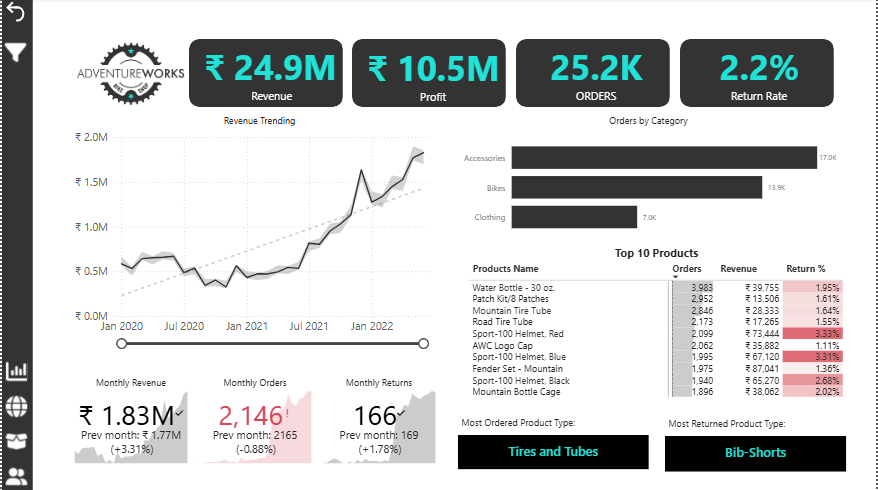

The page's visual inventory and layout, read from the dashboard file:
{"tool":"powerbi","page":{"name":"Exce Dashboard","canvas":[1280,720],"ordinal":0},"visuals":[{"type":"card","fields":{"Values":["Measure Table.Return Rate"]},"box":[957.9,26.4,299,166.3],"z":0,"group":"g4"},{"type":"image","title":"AW Logo","box":[87.8,27.8,202,165.4],"z":0},{"type":"shape","box":[991.2,59.5,225.4,99.5],"z":0,"group":"g3"},{"type":"card","fields":{"Values":["Min(Product Subcategories Lookup.SubcategoryName)"]},"box":[970.9,639.8,265.2,51.9],"z":0,"group":"g1"},{"type":"card","fields":{"Values":["Min(Product Subcategories Lookup.SubcategoryName)"]},"box":[668.2,640.6,278.5,49.8],"z":0,"group":"g2"},{"type":"card","fields":{"Values":["Measure Table.Total Orders"]},"box":[719.4,26.4,299,166.3],"z":1000,"group":"g4"},{"type":"shape","box":[751.2,59.5,225.4,99.5],"z":1000,"group":"g3"},{"type":"textbox","box":[667.9,607.7,179.7,30.2],"z":1000,"group":"g2"},{"type":"group","id":"g1","title":"text 2","box":[970.9,608.1,265.4,84],"z":1000},{"type":"textbox","box":[971.5,608.1,183.1,26.9],"z":1000,"group":"g1"},{"type":"shape","title":"Left Nav Background","box":[0,0,45.4,720],"z":2000},{"type":"card","fields":{"Values":["Measure Table.Total profit"]},"box":[480.8,28.1,299,166.3],"z":2000,"group":"g4"},{"type":"shape","box":[512.2,59.5,225.4,99.5],"z":2000,"group":"g3"},{"type":"card","fields":{"Values":["Measure Table.Total Revenue"]},"box":[242.3,26.4,299,166.3],"z":3000,"group":"g4"},{"type":"shape","box":[273.2,59.5,225.4,99.5],"z":3000,"group":"g3"},{"type":"group","id":"g2","title":"text 1","box":[667.9,607.7,278.9,82.7],"z":3000},{"type":"lineChart","title":"Revenue Trending","fields":{"Y":["Measure Table.Total Revenue"],"Category":["Calendar Lookup.Start of Month"]},"box":[100.8,169.2,552,346.9],"z":4000},{"type":"kpi","title":"Monthly Revenue","fields":{"Indicator":["Measure Table.Total Revenue"],"TrendLine":["Calendar Lookup.Start of Month"],"Goal":["Measure Table.Previous Month Revenue"]},"box":[101,553.2,175.6,133.2],"z":5000},{"type":"kpi","title":"Monthly Orders","fields":{"TrendLine":["Calendar Lookup.Start of Month"],"Goal":["Measure Table.Previous Month Orders"],"Indicator":["Measure Table.Total Orders"]},"box":[282.4,553.2,175.6,133.2],"z":6000},{"type":"kpi","title":"Monthly Returns","fields":{"TrendLine":["Calendar Lookup.Start of Month"],"Indicator":["Measure Table.Total Returns"],"Goal":["Measure Table.Previous Month Returns"]},"box":[463.9,553.2,175.6,133.2],"z":7000},{"type":"clusteredBarChart","title":"Orders by Category","fields":{"Category":["Product Categories Lookup.CategoryName"],"Y":["Measure Table.Total Orders"]},"box":[666.5,169.2,560.5,191.4],"z":8000},{"type":"pivotTable","title":"Top 10 Products","fields":{"Rows":["Product Lookup.ProductName"],"Values":["Measure Table.Total Orders","Measure Table.Total Revenue","Measure Table.Return Rate"]},"box":[678.6,361.2,557.7,230.1],"z":9000},{"type":"group","id":"g3","title":"KPI Background","box":[273.2,59.5,942.9,99.1],"z":10000},{"type":"group","id":"g4","title":"KPI's Value","box":[242.3,26.4,1015.6,167.4],"z":11000},{"type":"actionButton","box":[0,0,45.4,39.5],"z":12000},{"type":"actionButton","box":[1.6,578,43,39.5],"z":13000},{"type":"actionButton","box":[1.5,629.3,43.9,39.5],"z":14000},{"type":"actionButton","box":[1.6,526.8,43,39.5],"z":15000},{"type":"actionButton","box":[1.5,680.5,43.9,39.5],"z":16000},{"type":"actionButton","box":[0,60,45.4,39.5],"z":17000}]}

Visuals, with their boxes on the page's 1280x720 design canvas (x1, y1, x2, y2). These are canvas units, not pixel positions in the 878x490 screenshot, which may show the page scaled, cropped or inside an application window:
card - Measure Table.Return Rate: x1=958 y1=26 x2=1257 y2=193
"AW Logo" image: x1=88 y1=28 x2=290 y2=193
shape: x1=991 y1=60 x2=1217 y2=159
card - Min(Product Subcategories Lookup.SubcategoryName): x1=971 y1=640 x2=1236 y2=692
card - Min(Product Subcategories Lookup.SubcategoryName): x1=668 y1=641 x2=947 y2=690
card - Measure Table.Total Orders: x1=719 y1=26 x2=1018 y2=193
shape: x1=751 y1=60 x2=977 y2=159
textbox: x1=668 y1=608 x2=848 y2=638
"text 2" group: x1=971 y1=608 x2=1236 y2=692
textbox: x1=972 y1=608 x2=1155 y2=635
"Left Nav Background" shape: x1=0 y1=0 x2=45 y2=720
card - Measure Table.Total profit: x1=481 y1=28 x2=780 y2=194
shape: x1=512 y1=60 x2=738 y2=159
card - Measure Table.Total Revenue: x1=242 y1=26 x2=541 y2=193
shape: x1=273 y1=60 x2=499 y2=159
"text 1" group: x1=668 y1=608 x2=947 y2=690
"Revenue Trending" lineChart: x1=101 y1=169 x2=653 y2=516
"Monthly Revenue" kpi: x1=101 y1=553 x2=277 y2=686
"Monthly Orders" kpi: x1=282 y1=553 x2=458 y2=686
"Monthly Returns" kpi: x1=464 y1=553 x2=640 y2=686
"Orders by Category" clusteredBarChart: x1=666 y1=169 x2=1227 y2=361
"Top 10 Products" pivotTable: x1=679 y1=361 x2=1236 y2=591
"KPI Background" group: x1=273 y1=60 x2=1216 y2=159
"KPI's Value" group: x1=242 y1=26 x2=1258 y2=194
actionButton: x1=0 y1=0 x2=45 y2=40
actionButton: x1=2 y1=578 x2=45 y2=618
actionButton: x1=2 y1=629 x2=45 y2=669
actionButton: x1=2 y1=527 x2=45 y2=566
actionButton: x1=2 y1=680 x2=45 y2=720
actionButton: x1=0 y1=60 x2=45 y2=100
